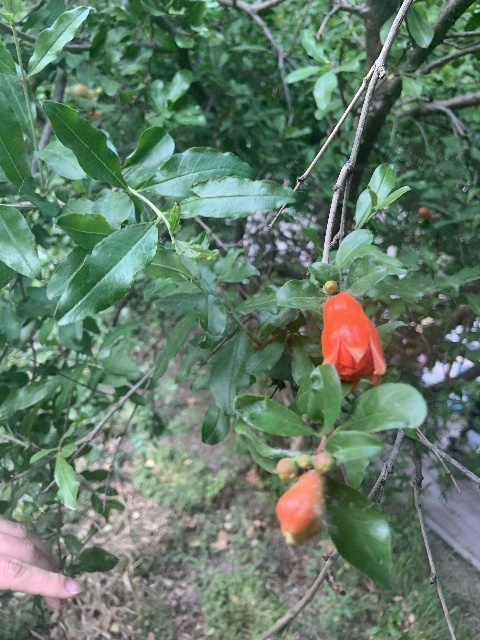bud: (276, 470, 324, 544), (276, 457, 299, 482), (315, 452, 335, 474), (323, 279, 339, 295)
flower: (320, 290, 386, 392)
